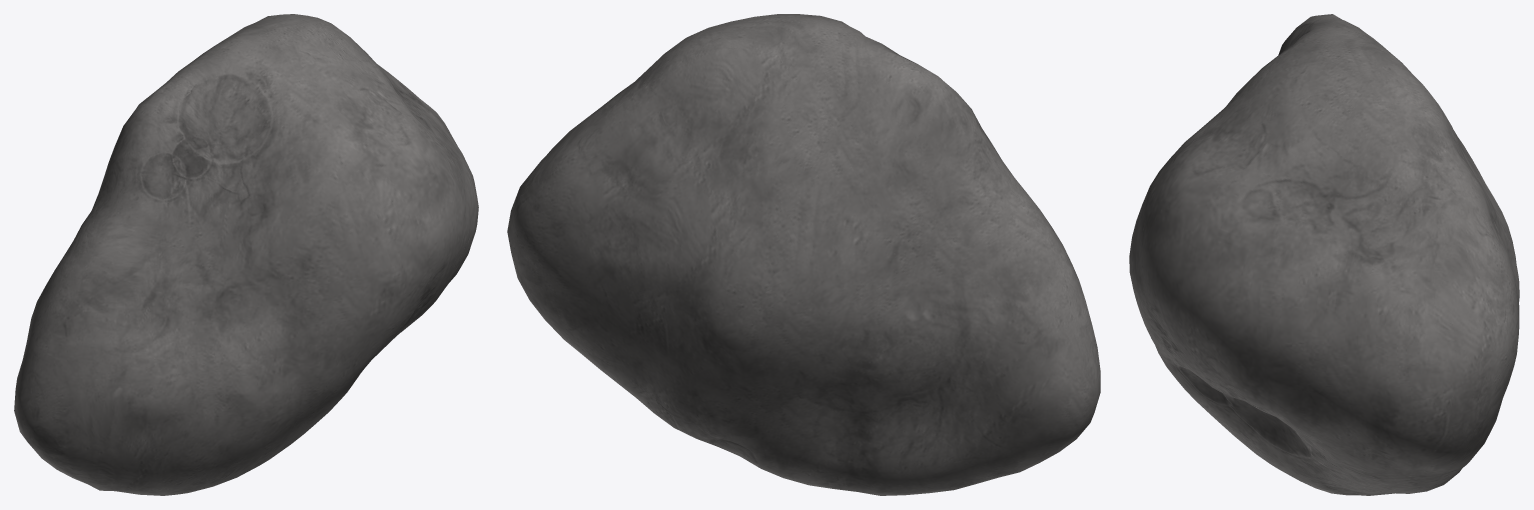
The model's file is asteroid_c_template.glb.
3 views of the same model, side by side, from view 1: azimuth 30°, elevation 25°; view 2: azimuth 150°, elevation 25°; view 3: azimuth 270°, elevation 25° (orthographic). The views are drawn at different scales.
Visible parts, largest first — view 1: asteroid_02; view 2: asteroid_02; view 3: asteroid_02.
Part boxes in pixels (bbox=[...]): asteroid_02: bbox=[14, 14, 478, 495]; asteroid_02: bbox=[507, 14, 1100, 495]; asteroid_02: bbox=[1129, 14, 1519, 495].
Size of the model in its own units: 1.38 by 1.16 by 0.8749.
1 material, 1 textured.
